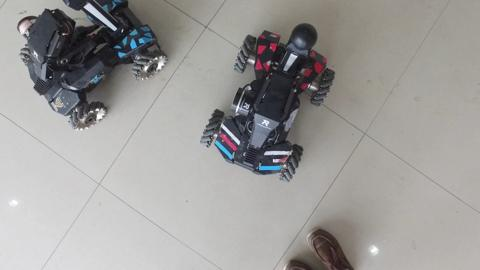chariot: (199, 14, 336, 193), (13, 1, 165, 135)
